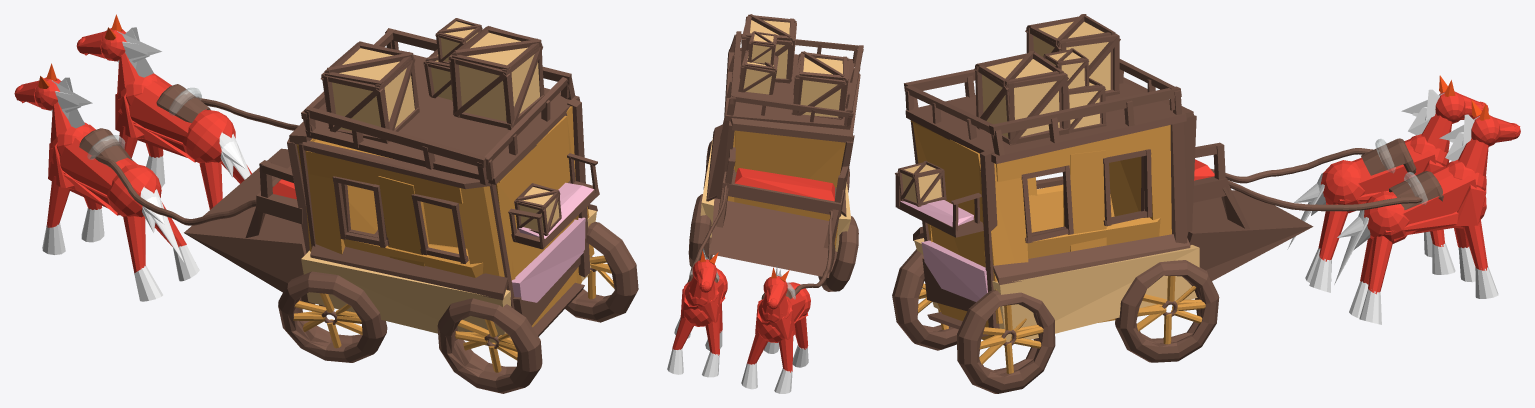
Rendered from carriage.glb.
The picture shows the model from 3 angles, left to right: view 1: azimuth 30°, elevation 25°; view 2: azimuth 150°, elevation 25°; view 3: azimuth 270°, elevation 25°; orthographic projection. The views are drawn at different scales.
Visible parts, largest first — view 1: group1590990939, group2118055527, group1906588460, group513408505, group1359593936, group1571663356, group1645794413, group1179005106, group1283899237, group1587774560, group1634807174, group1100275335; view 2: group1590990939, group2118055527, group1906588460, group1359593936, group513408505, group1634807174, group1283899237, group1645794413, group1100275335; view 3: group1590990939, group1906588460, group2118055527, group513408505, group1359593936, group1571663356, group1100275335, group1587774560, group1634807174, group1179005106, group1283899237, group1645794413.
Part boxes in pixels (bbox=[...]): group1590990939: bbox=[184, 28, 638, 393]; group2118055527: bbox=[14, 63, 199, 301]; group1906588460: bbox=[76, 14, 251, 209]; group513408505: bbox=[448, 26, 544, 130]; group1359593936: bbox=[320, 41, 419, 143]; group1571663356: bbox=[514, 183, 561, 235]; group1645794413: bbox=[90, 155, 256, 225]; group1179005106: bbox=[156, 84, 210, 122]; group1283899237: bbox=[435, 18, 482, 63]; group1587774560: bbox=[79, 128, 133, 166]; group1634807174: bbox=[423, 49, 452, 100]; group1100275335: bbox=[197, 97, 298, 130]; group1590990939: bbox=[688, 31, 863, 291]; group2118055527: bbox=[741, 266, 810, 393]; group1906588460: bbox=[667, 248, 727, 377]; group1359593936: bbox=[791, 51, 849, 119]; group513408505: bbox=[739, 14, 796, 83]; group1634807174: bbox=[738, 50, 778, 94]; group1283899237: bbox=[747, 31, 777, 65]; group1645794413: bbox=[793, 210, 833, 297]; group1100275335: bbox=[689, 185, 727, 277]; group1590990939: bbox=[892, 59, 1313, 393]; group1906588460: bbox=[1334, 99, 1520, 324]; group2118055527: bbox=[1287, 75, 1488, 292]; group513408505: bbox=[973, 51, 1069, 145]; group1359593936: bbox=[1025, 14, 1120, 96]; group1571663356: bbox=[897, 160, 946, 206]; group1100275335: bbox=[1227, 180, 1422, 211]; group1587774560: bbox=[1361, 138, 1416, 175]; group1634807174: bbox=[1068, 78, 1106, 132]; group1179005106: bbox=[1389, 171, 1443, 209]; group1283899237: bbox=[1043, 48, 1089, 88]; group1645794413: bbox=[1210, 148, 1372, 183].
Size of the model in its own units: 1.21 by 1.04 by 1.86.
